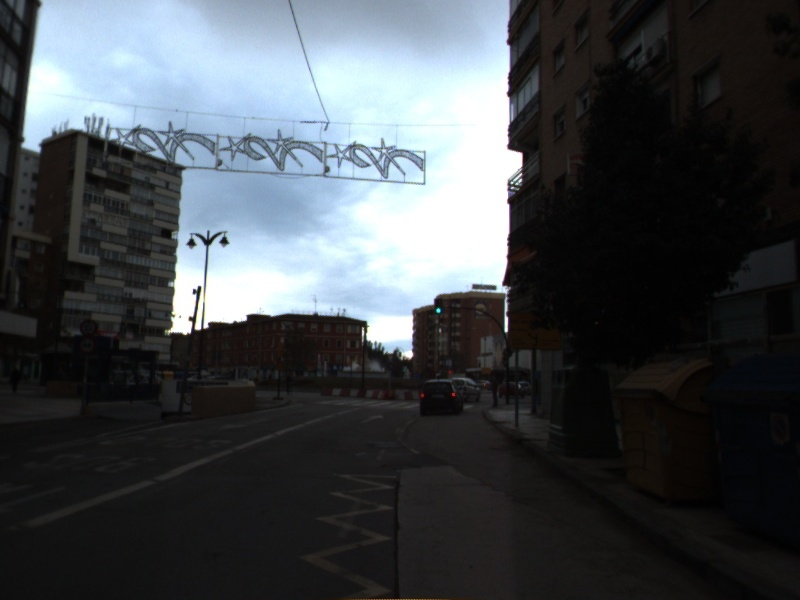STRAIGHT: (358, 412, 386, 426)
